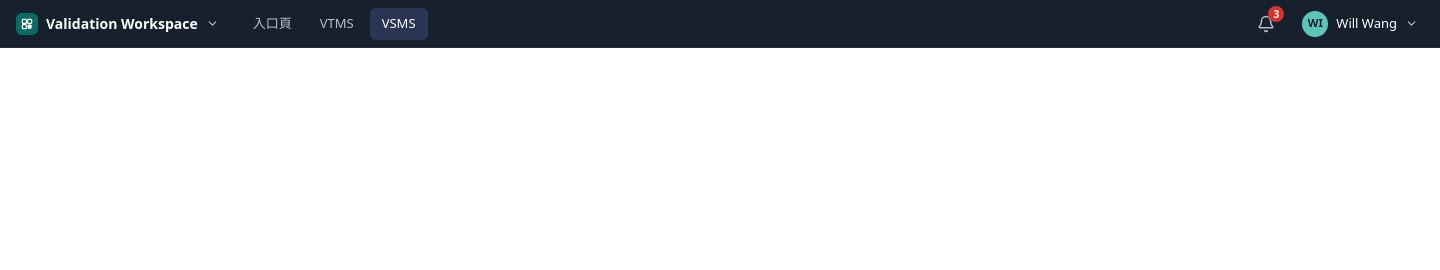
Test case: Topbar：產品切換與並排連結 › 下拉列出入口頁首頁＋所有啟用系統（含不在頂欄的），只有 VSMS 打勾
Expected: the navigation bar named "系統" is shown, [241,8,428,40]
Click the button with aria-label "切換系統".
click(117, 24)  # box [10,8,225,40]
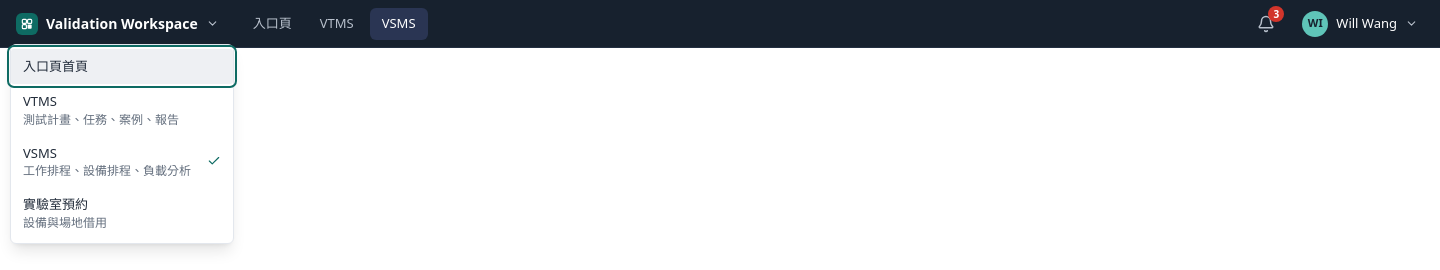
Expected: the menu item "入口頁首頁" is shown, [11,48,233,84]
Expected: the menu item "實驗室預約 設備與場地借用" is shown, [23,195,107,230]
